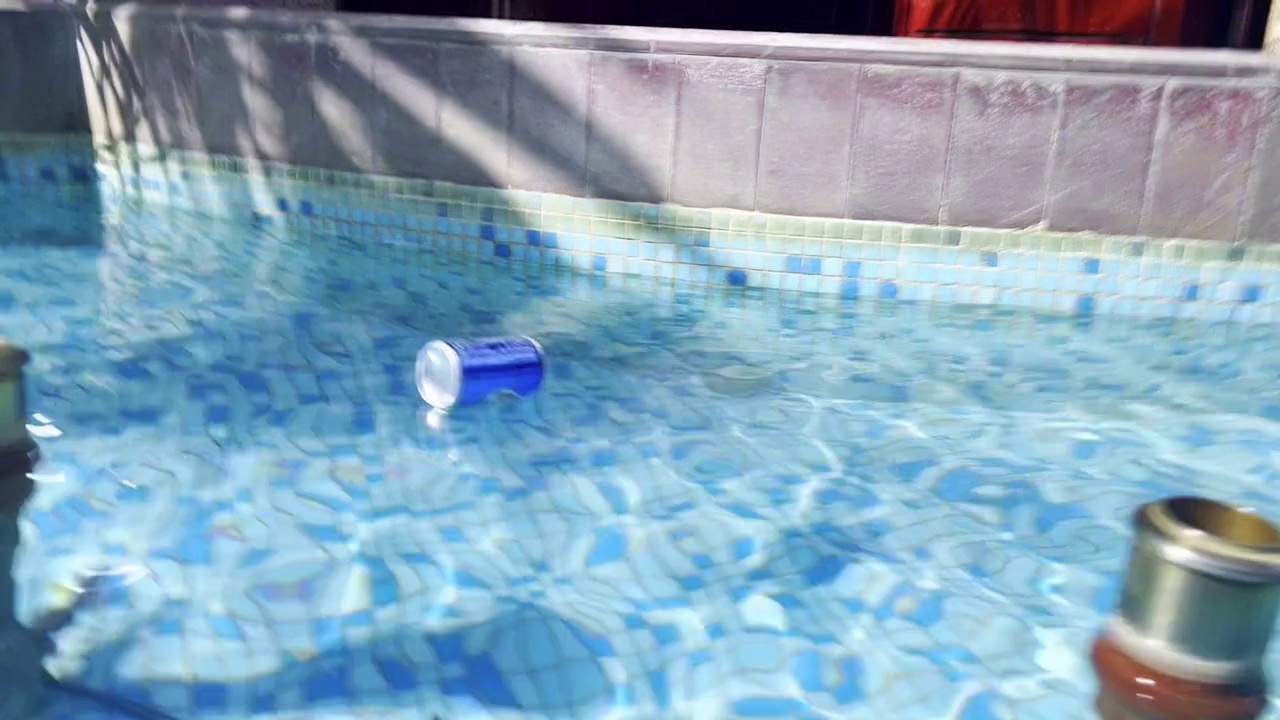debris: (409, 317, 555, 419)
